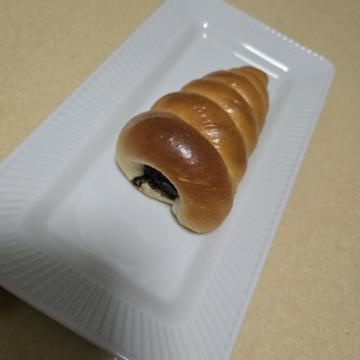cream horn: (55, 79, 253, 266)
